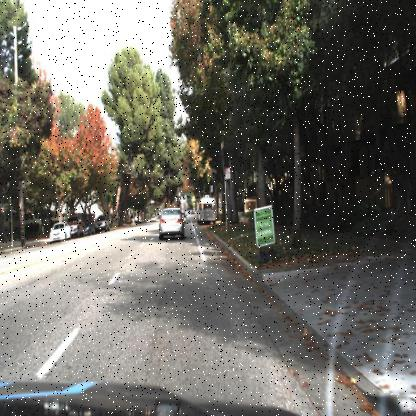car: (152, 202, 190, 253), (46, 218, 72, 244), (94, 212, 112, 235), (70, 218, 85, 241), (82, 216, 97, 235), (84, 216, 96, 236)
truck: (194, 191, 216, 231)
